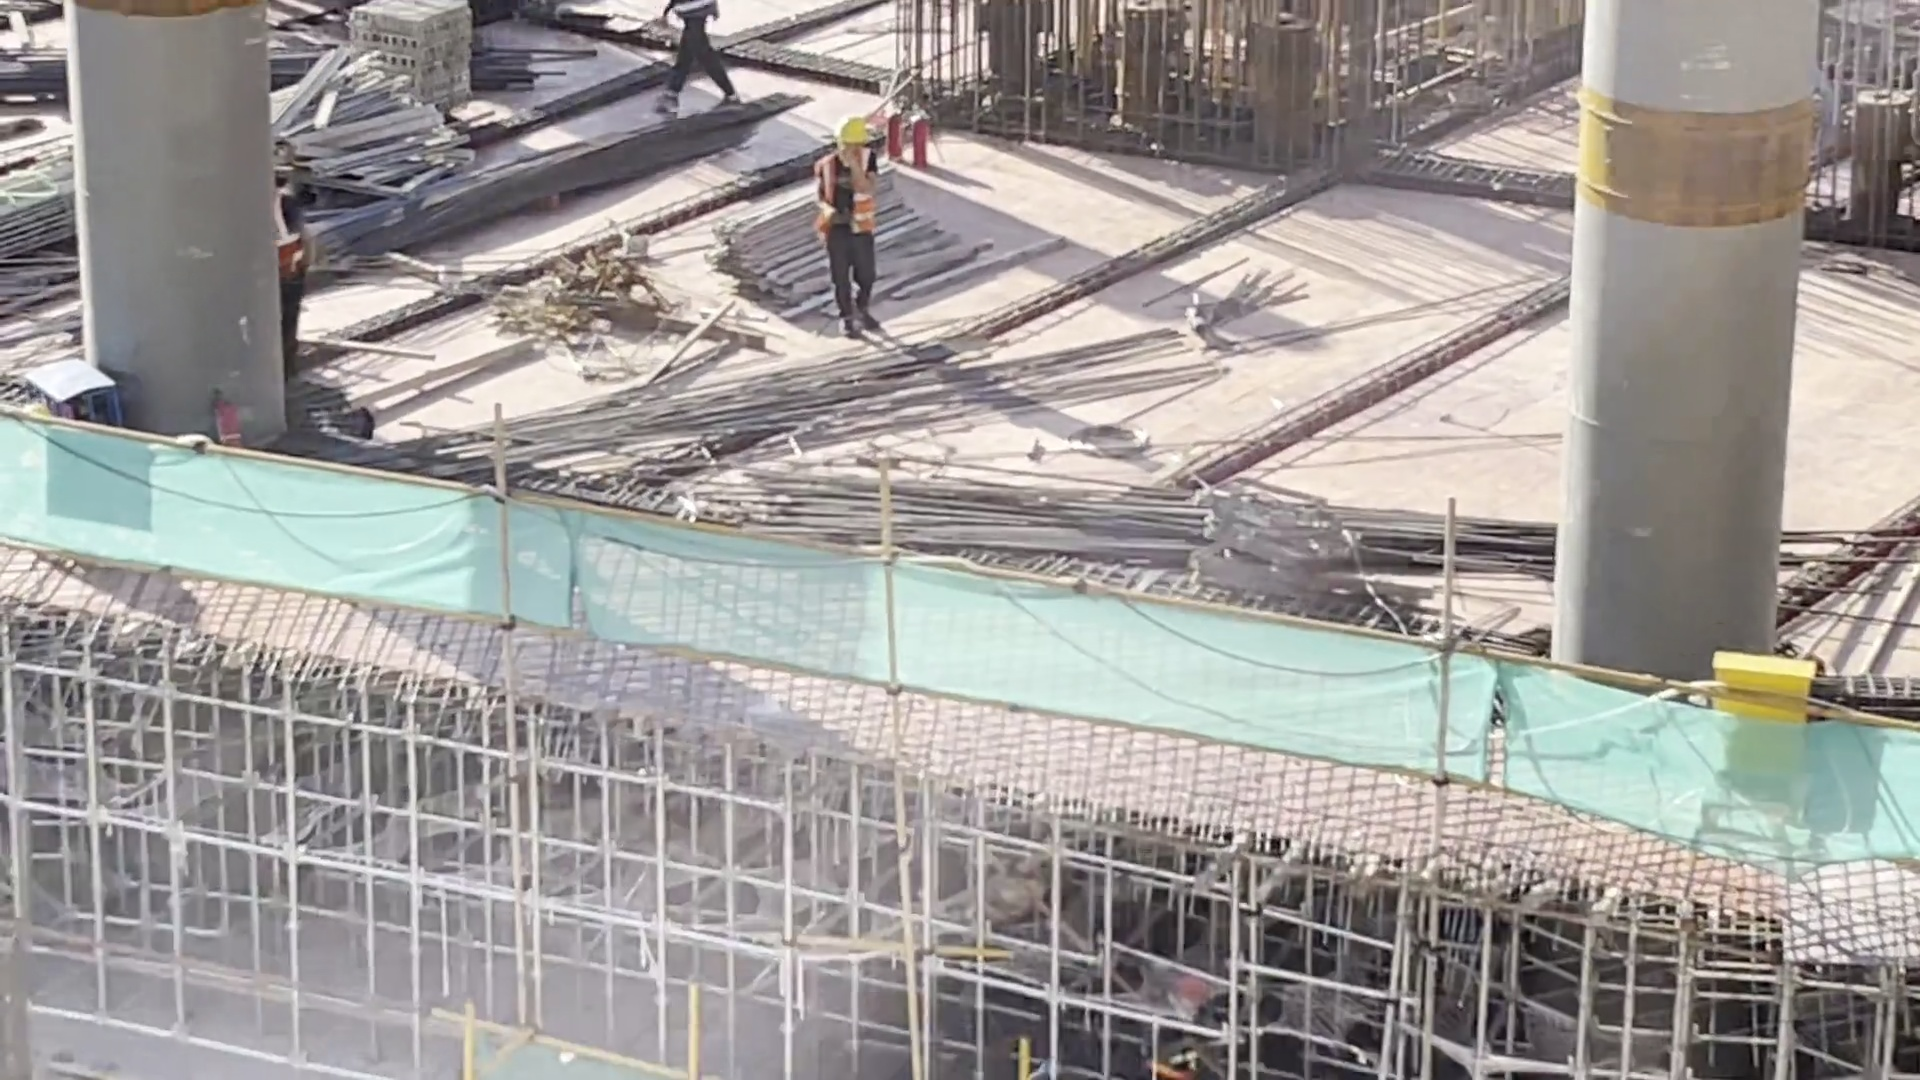ebox: (1721, 639, 1821, 852)
helmet: (1168, 969, 1209, 1002), (843, 116, 871, 157)
person: (838, 130, 894, 323), (271, 164, 317, 360), (1159, 956, 1226, 1080), (668, 1, 738, 118)
rebar: (765, 445, 1436, 594), (328, 85, 804, 265), (404, 326, 1183, 410), (1, 44, 571, 88)
vest: (804, 149, 874, 229), (268, 184, 308, 287), (1158, 1012, 1216, 1074), (671, 1, 717, 26)
